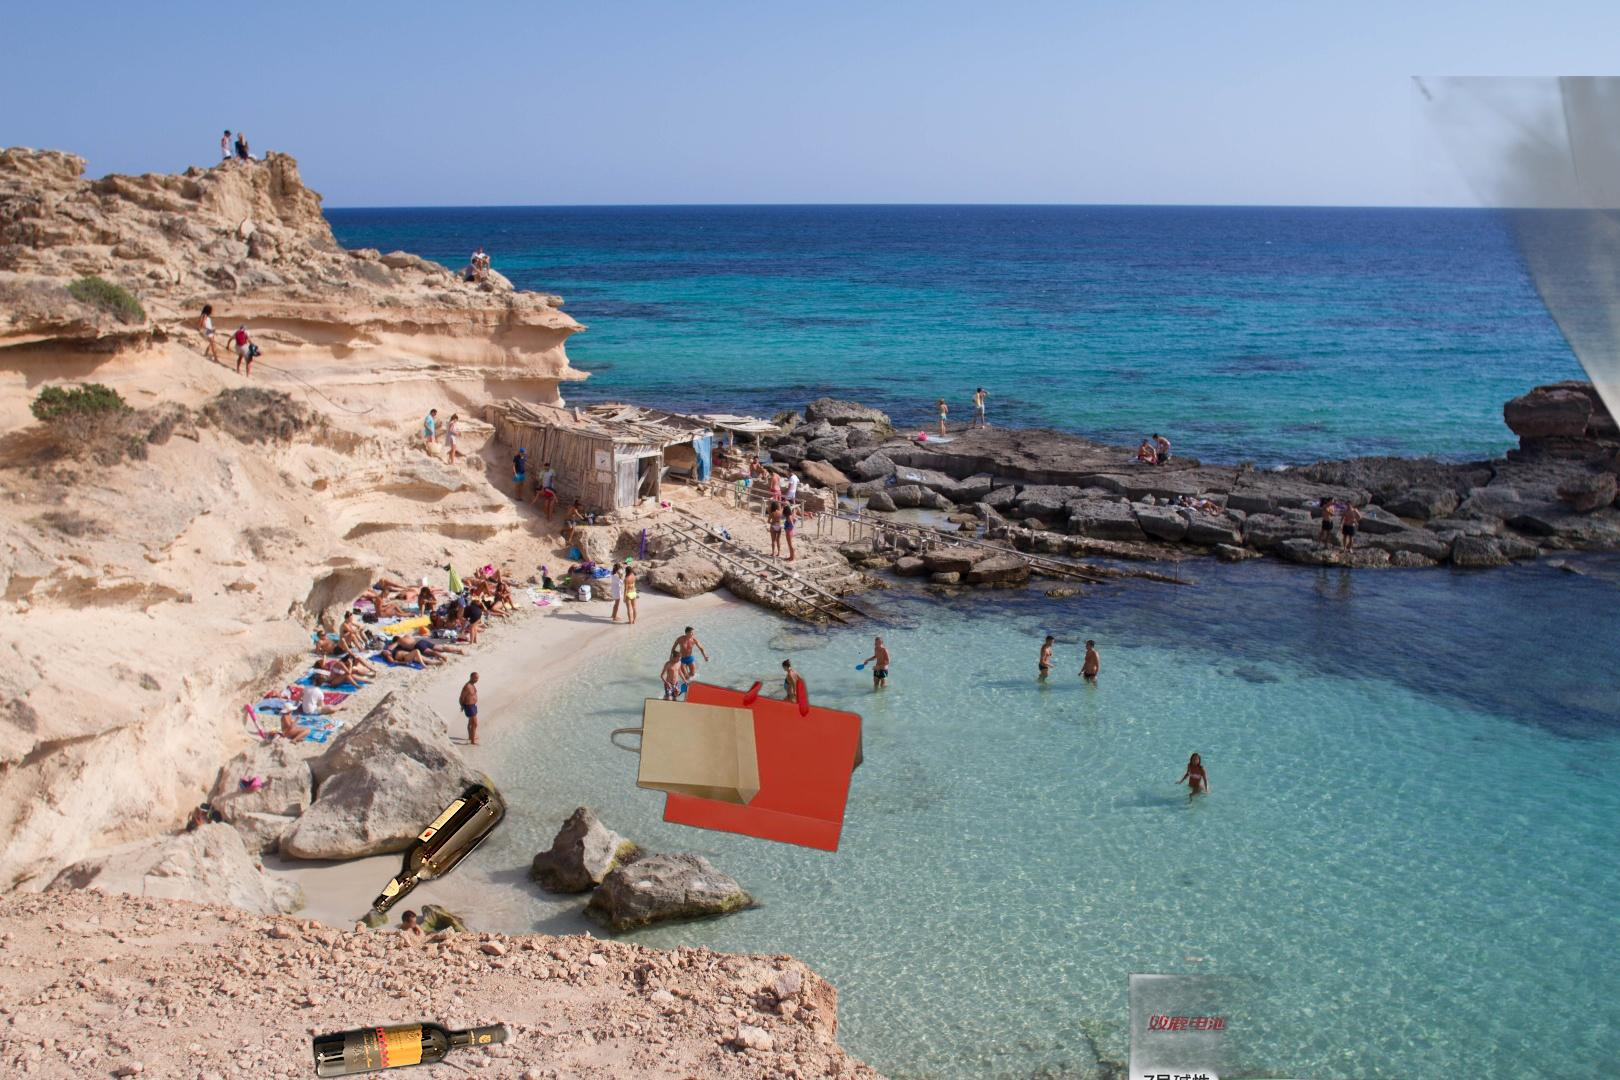battery: (1125, 969, 1424, 1080)
glass: (222, 777, 512, 1080)
paper: (1411, 76, 1620, 460)
paper-bag: (607, 636, 865, 855)
